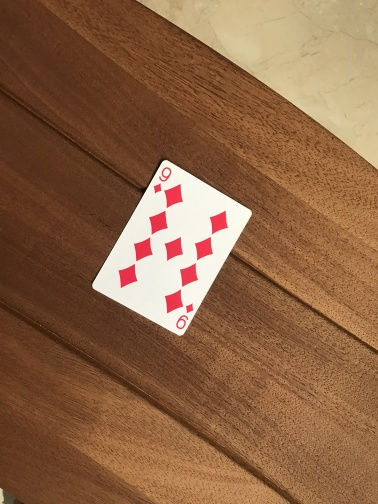nine: (91, 158, 254, 338)
